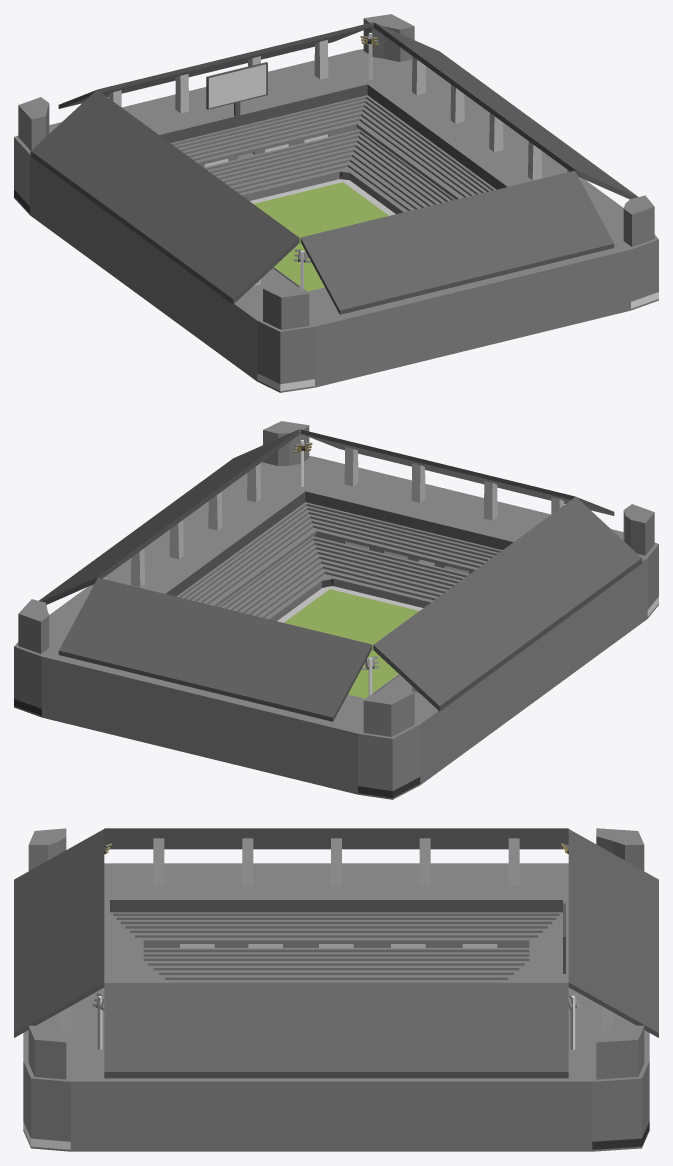
The model's file is LowPolySoccerStadium 1.fbx.
The picture shows the model from 3 angles, top to bottom: view 1: azimuth 30°, elevation 25°; view 2: azimuth 150°, elevation 25°; view 3: azimuth 270°, elevation 25°; orthographic projection. The views are drawn at different scales.
Parts seen in each view (by area): view 1: Stadium; view 2: Stadium; view 3: Stadium.
Part boxes in pixels (box(x1,y1,x2,y2)): Stadium: box(14, 14, 658, 392); Stadium: box(14, 421, 658, 799); Stadium: box(14, 828, 658, 1151).
Size of the model in its own units: 396 by 472 by 111.
